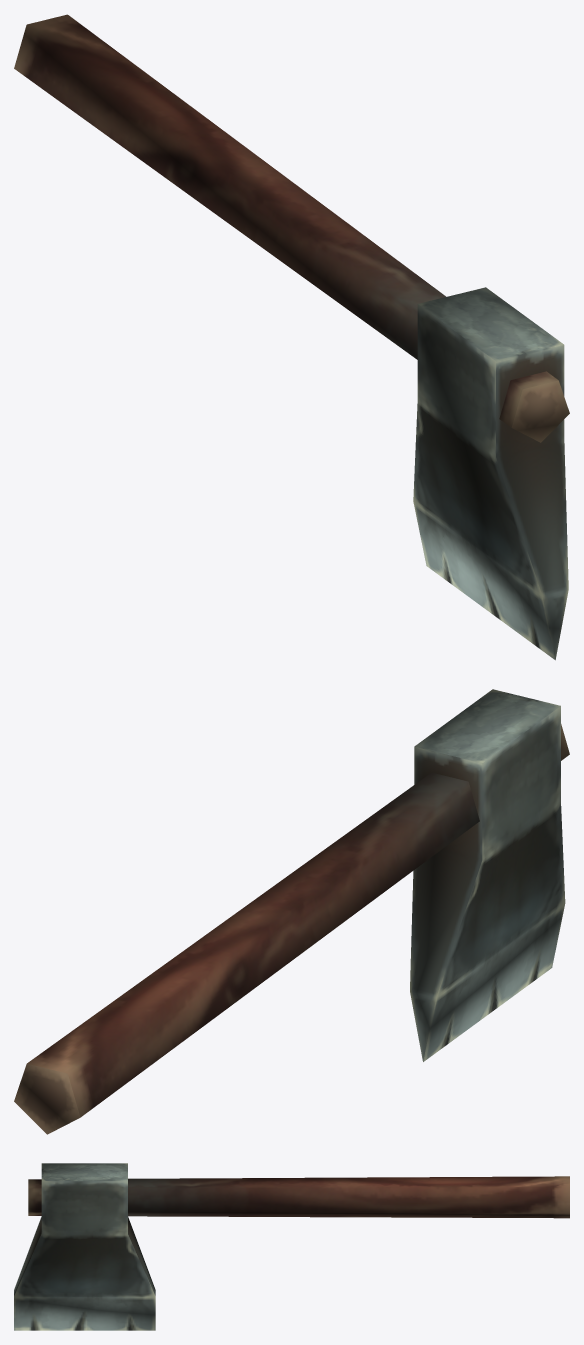
The model's file is topor_01.fbx.
3 renders of one model, top to bottom at view 1: azimuth 30°, elevation 25°; view 2: azimuth 150°, elevation 25°; view 3: azimuth 270°, elevation 25°, orthographic. The views are drawn at different scales.
Parts seen in each view (by area): view 1: topor_01; view 2: topor_01; view 3: topor_01.
Boxes of the visible parts, x1=… form: topor_01: x1=14, y1=14, x2=569, y2=660; topor_01: x1=14, y1=689, x2=569, y2=1134; topor_01: x1=14, y1=1163, x2=569, y2=1330.
Bounding box in the file's own units: 8.34 × 33.31 × 106.
Materials: 1 (1 with a texture image).
